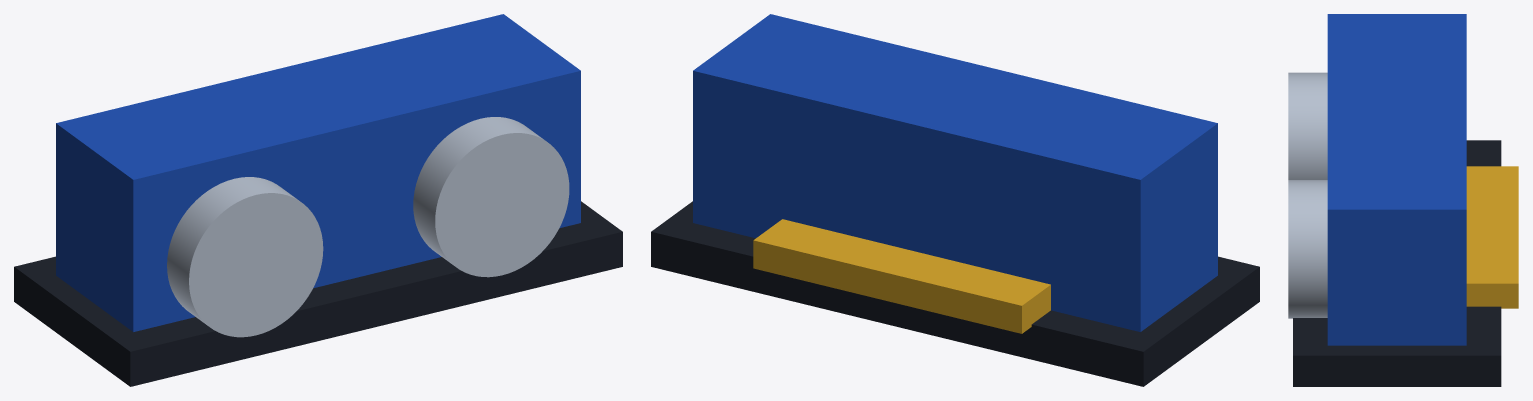
Rendered from device.gltf.
The picture shows the model from 3 angles, left to right: view 1: azimuth 30°, elevation 25°; view 2: azimuth 150°, elevation 25°; view 3: azimuth 270°, elevation 25°; orthographic projection. The views are drawn at different scales.
Parts seen in each view (by area): view 1: Body, Mount, RightEye, LeftEye; view 2: Body, Mount, Pins; view 3: Body, Mount, Pins, RightEye, LeftEye.
Part boxes in pixels (x1,y1,x2,y2): Body: (56,14,580,331); Mount: (14,201,622,386); RightEye: (413,117,569,277); LeftEye: (167,177,323,337); Body: (693,14,1217,331); Mount: (651,201,1259,386); Pins: (753,219,1050,333); Body: (1327,14,1466,345); Mount: (1293,140,1501,386); Pins: (1466,166,1518,308); RightEye: (1288,180,1327,318); LeftEye: (1288,72,1327,179).
Bounding box in the file's own units: 0.22 × 0.08 × 0.0995.
